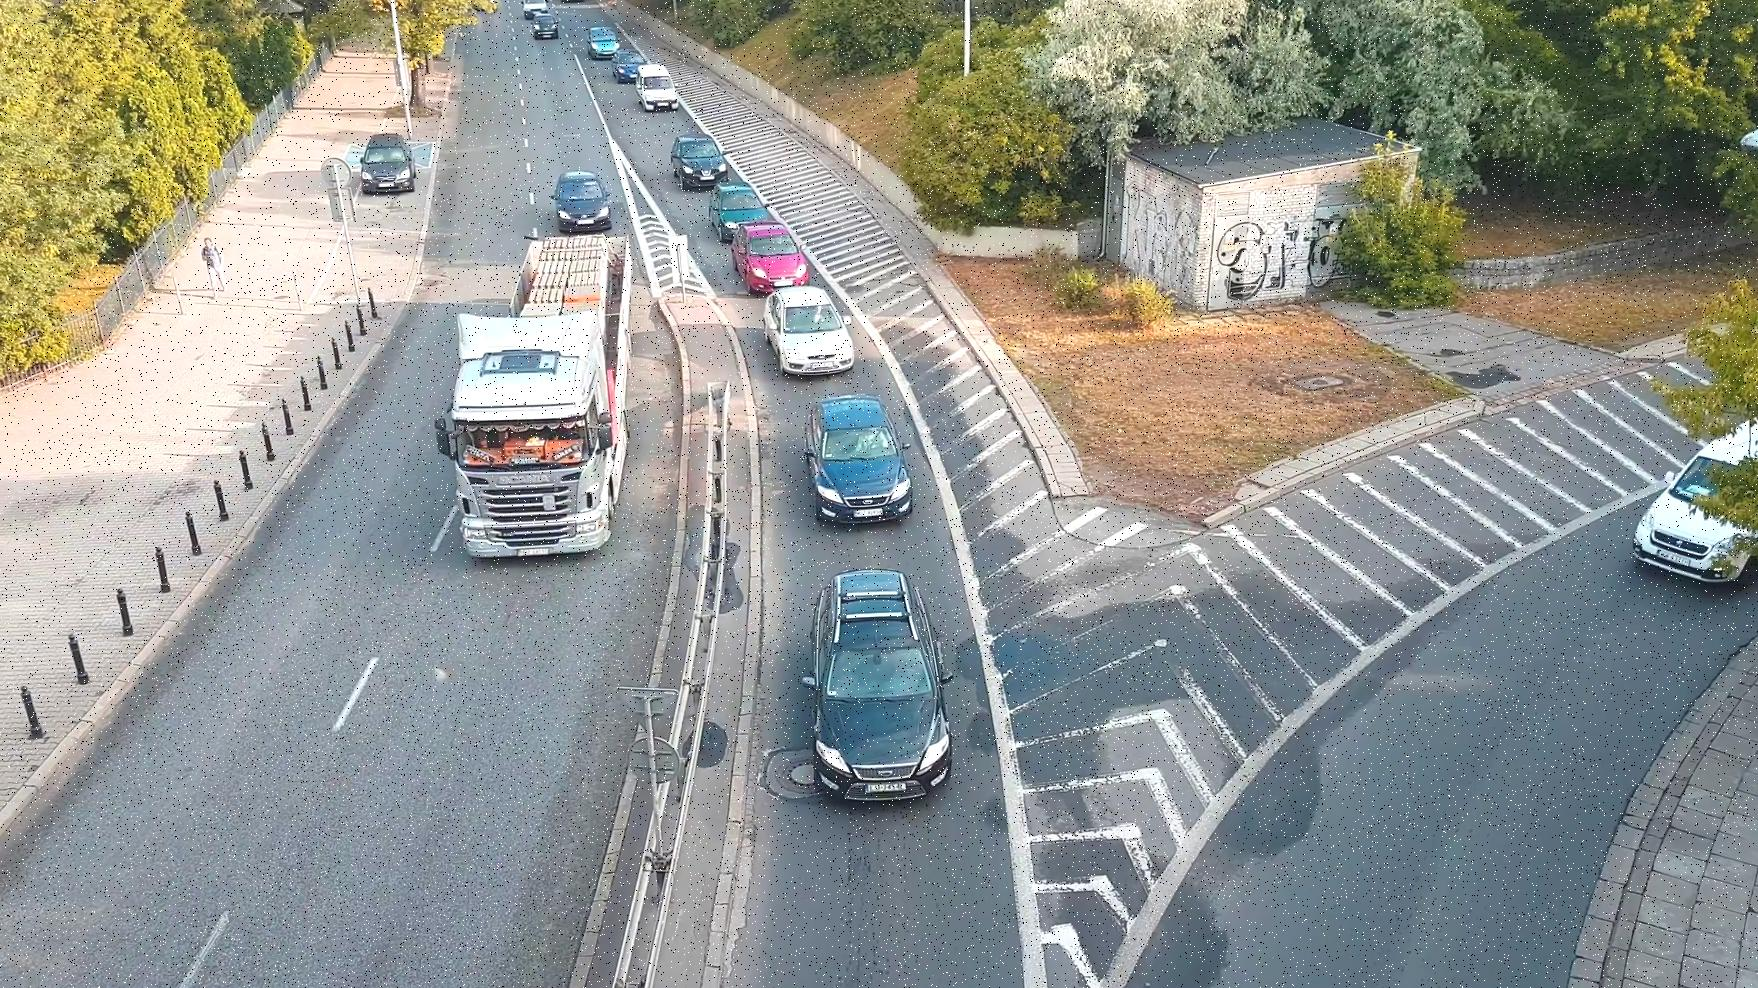car: (790, 564, 964, 806), (1623, 408, 1758, 594), (793, 390, 924, 528), (751, 278, 863, 383), (728, 215, 813, 292), (549, 163, 616, 237), (351, 128, 426, 191), (660, 128, 730, 191), (703, 175, 772, 237), (630, 59, 686, 118), (582, 21, 622, 63), (530, 5, 560, 36)
truck: (435, 220, 647, 576)
